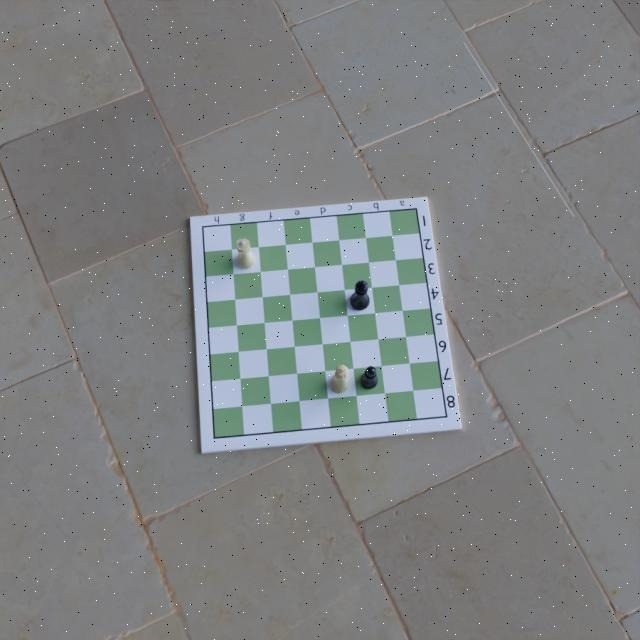black-bishop: (357, 366, 378, 390)
black-king: (349, 280, 371, 312)
white-king: (330, 363, 353, 395)
white-queen: (235, 237, 257, 271)
